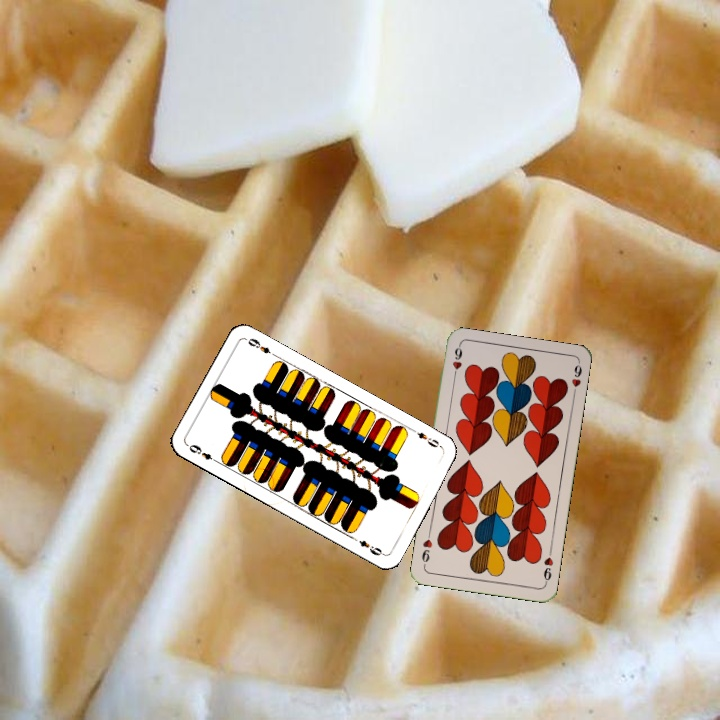E9: (183, 440, 221, 466), (408, 425, 445, 451)
H9: (539, 546, 556, 587), (448, 342, 465, 382)
